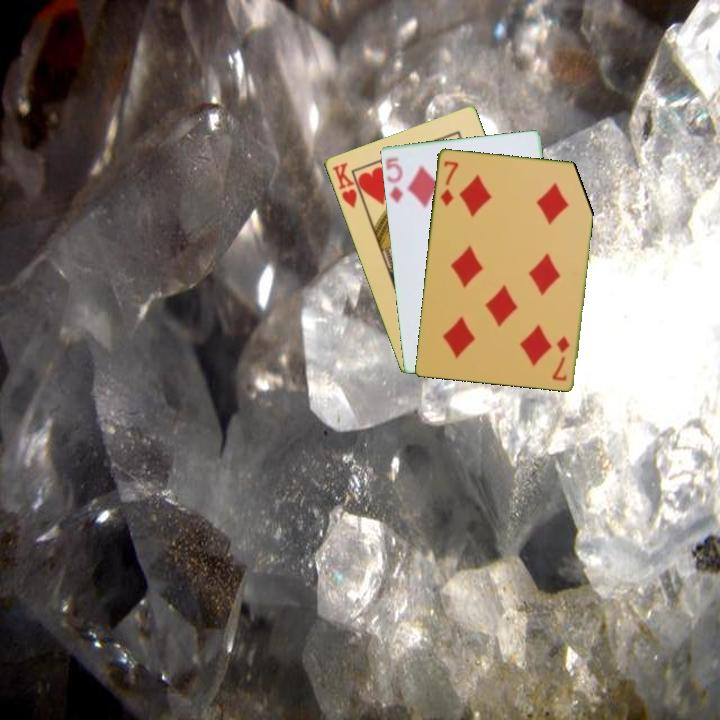5d: (382, 154, 406, 206)
7d: (437, 157, 461, 209), (549, 332, 572, 384)
Kh: (328, 159, 367, 211)
